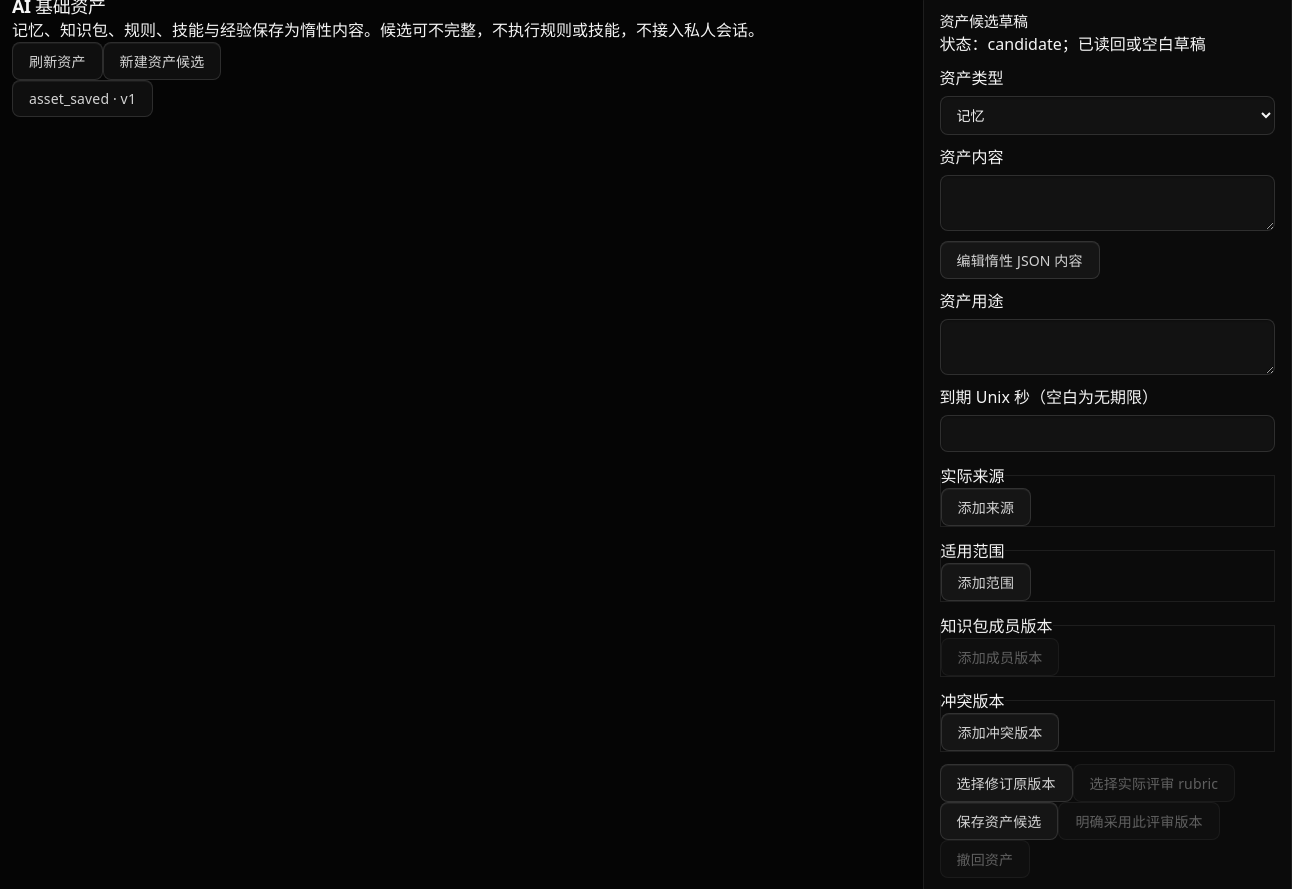
it: preserves complete envelope and source payload on semantic edits
Click the button "asset_saved · v1": point(82, 98) [12,80,153,116]
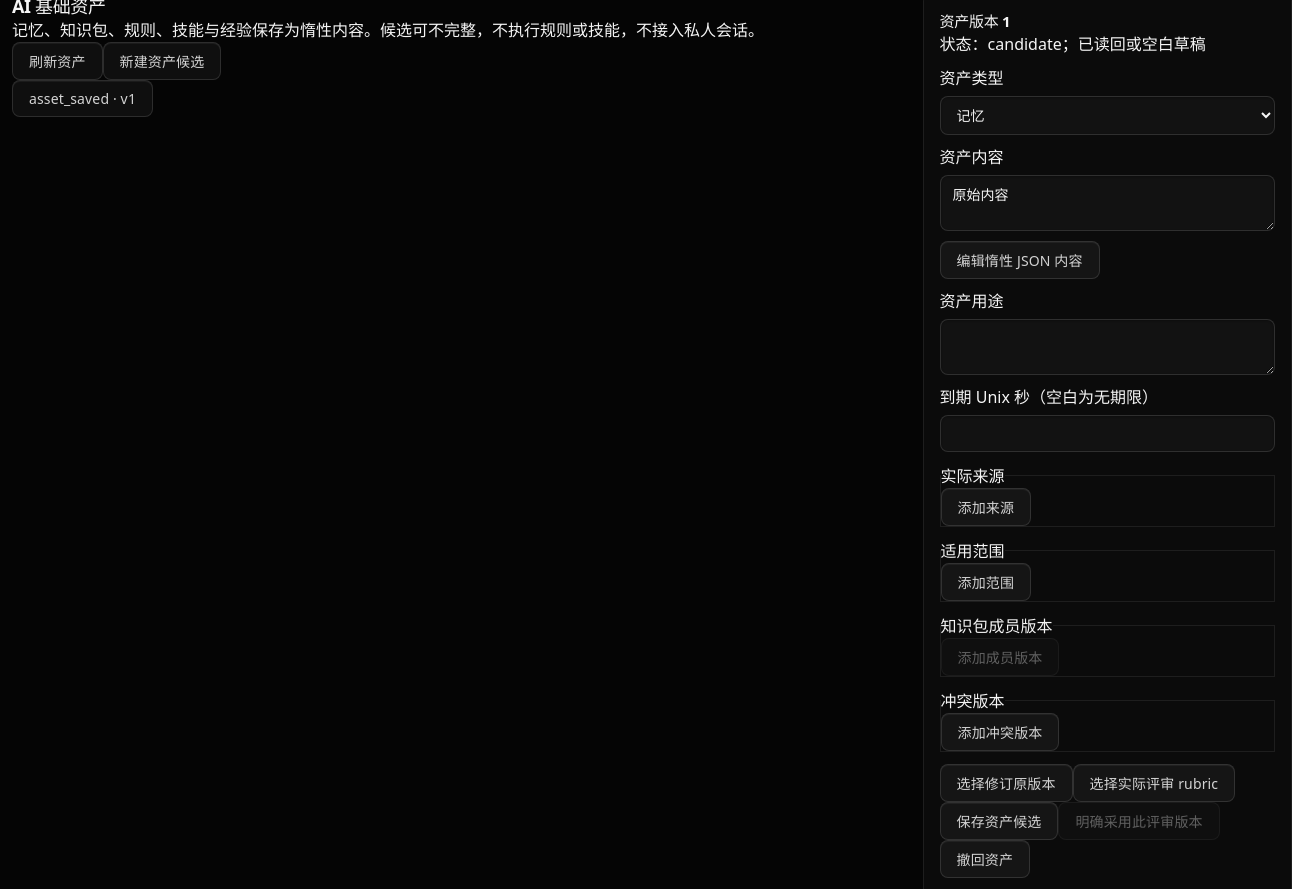
Check: the text box labelled "资产内容" holds "原始内容", box [940,174,1275,230]
In the text box labelled "资产用途": point(1107, 346) [940,318,1275,374], type "新用途"
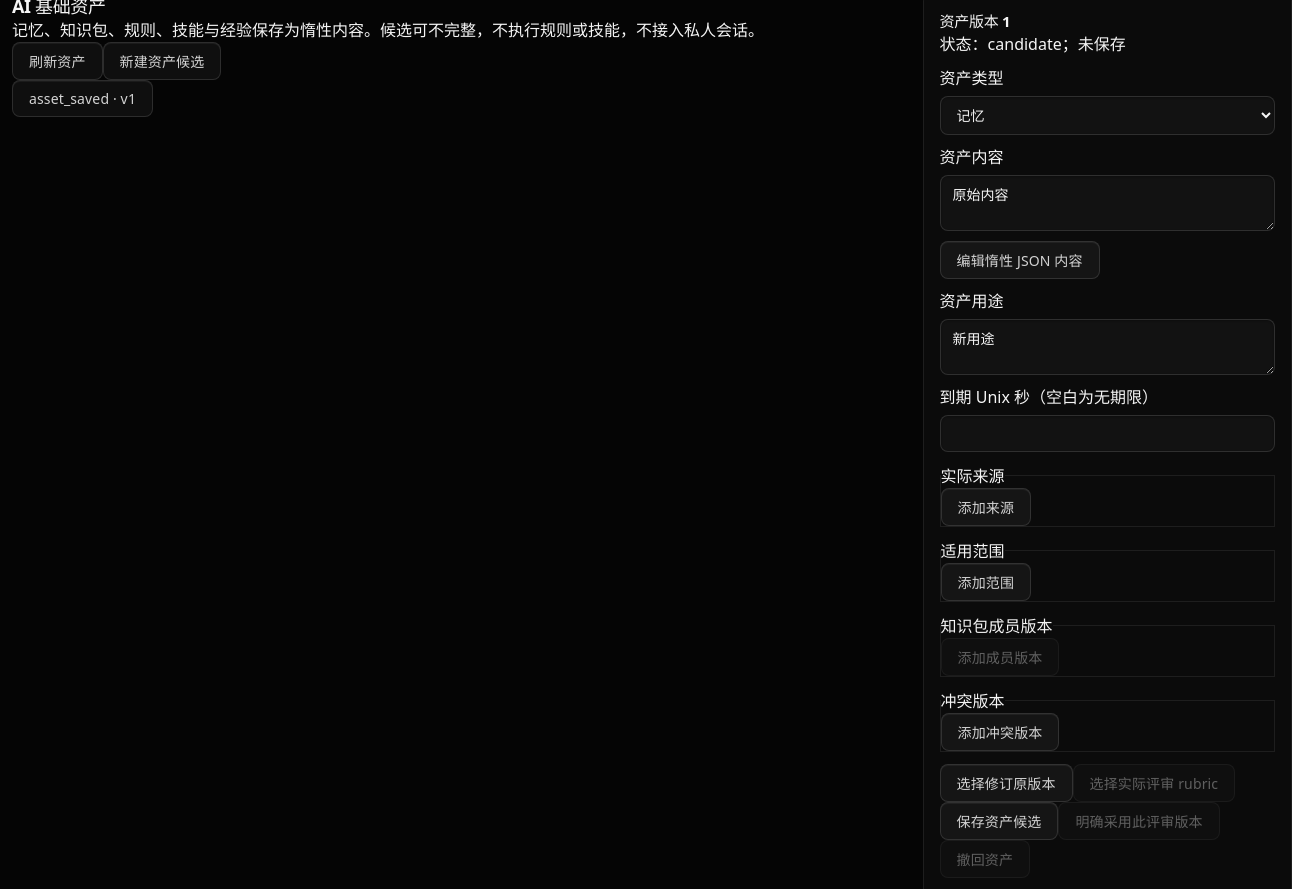
Click the button "保存资产候选": point(999, 820) [940,802,1058,840]
(page scrolled)
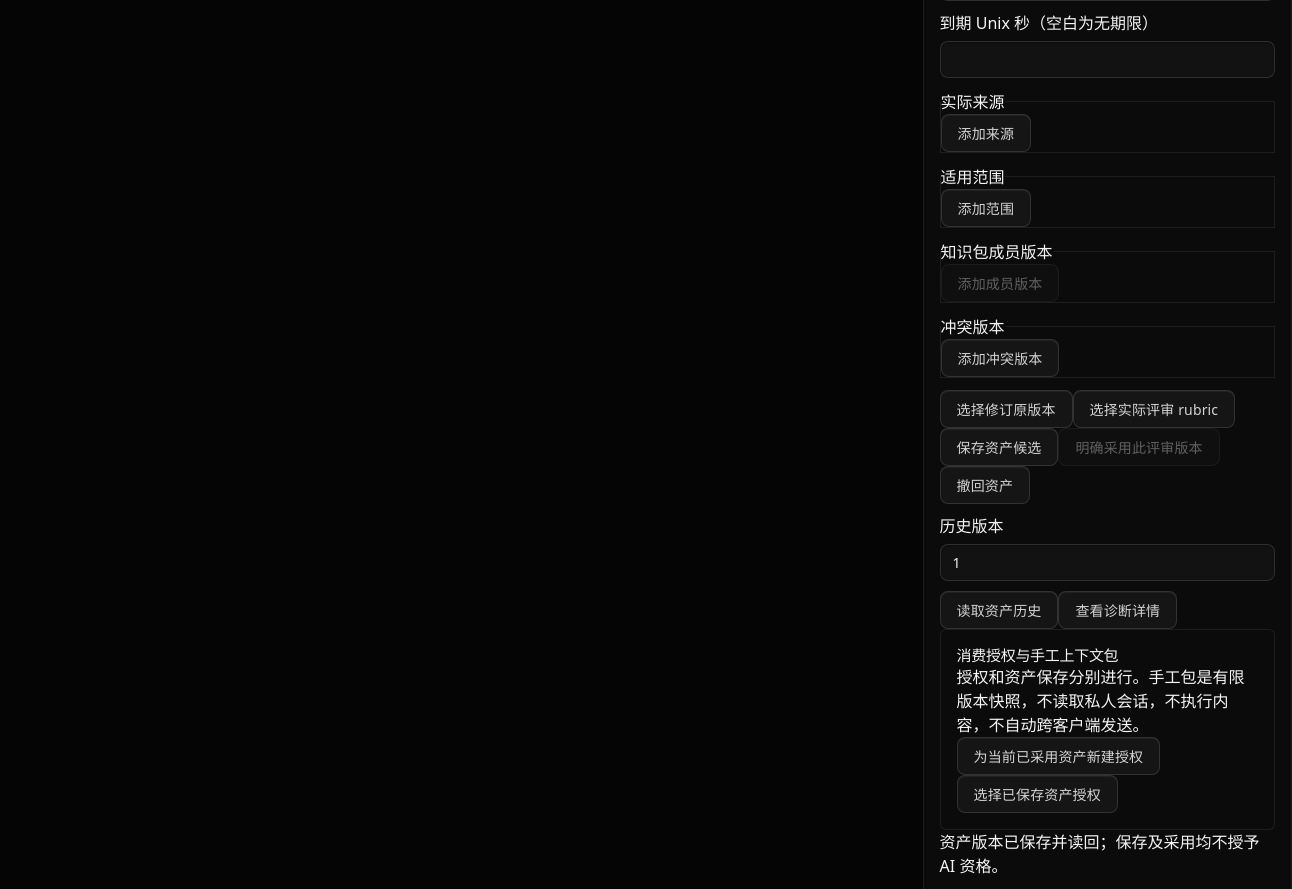
Check: the text "资产版本已保存并读回；保存及采用均不授予 AI 资格。" is shown, box [940,830,1275,878]
